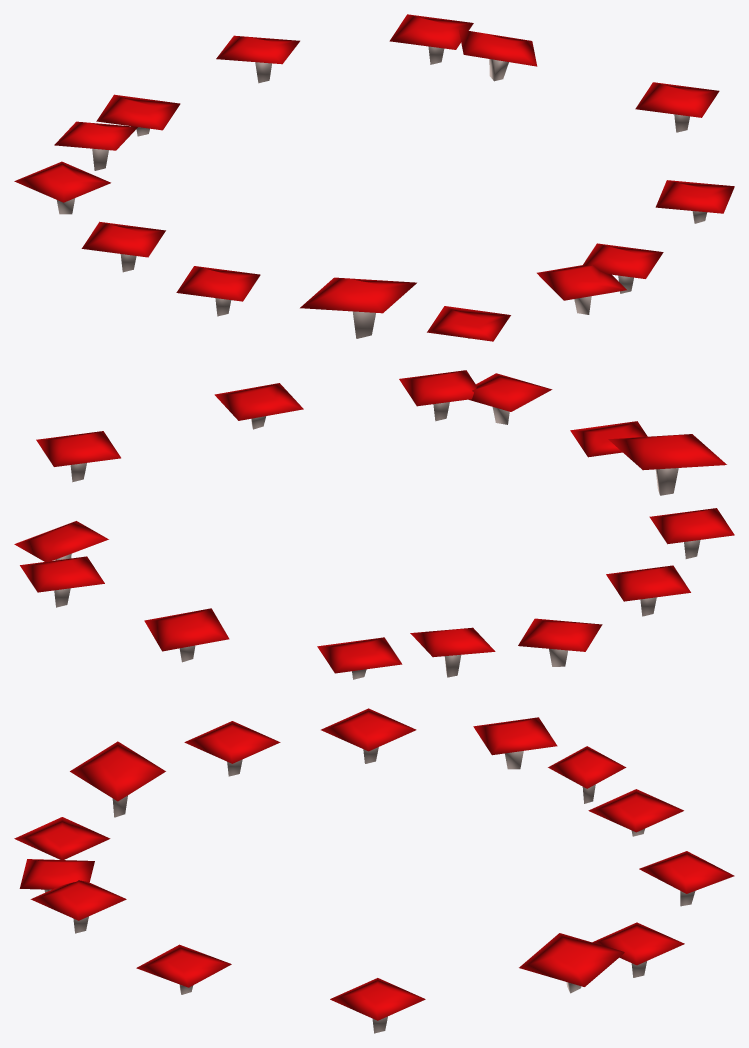
File: FairyRing.glb
3 renders of one model, top to bottom at view 1: azimuth 30°, elevation 25°; view 2: azimuth 150°, elevation 25°; view 3: azimuth 270°, elevation 25°, orthographic. The views are drawn at different scales.
Visible parts, largest first — view 1: Mushroom.006, Mushroom.004, Mushroom.002, Mushroom, Mushroom.008, Mushroom.013, Mushroom.001, Mushroom.011, Mushroom.012, Mushroom.003, Mushroom.007, Mushroom.009 (+2 smaller); view 2: Mushroom.006, Mushroom.010, Mushroom.013, Mushroom, Mushroom.004, Mushroom.008, Mushroom.011, Mushroom.007, Mushroom.012, Mushroom.003, Mushroom.002, Mushroom.001 (+2 smaller); view 3: Mushroom.001, Mushroom.006, Mushroom.004, Mushroom, Mushroom.013, Mushroom.008, Mushroom.010, Mushroom.007, Mushroom.012, Mushroom.003, Mushroom.009, Mushroom.011 (+2 smaller).
Boxes of the visible parts, bbox=[...] form: Mushroom.006: bbox=[300, 277, 416, 338]; Mushroom.004: bbox=[14, 161, 110, 214]; Mushroom.002: bbox=[537, 265, 626, 314]; Mushroom: bbox=[81, 221, 165, 272]; Mushroom.008: bbox=[635, 82, 719, 132]; Mushroom.013: bbox=[176, 266, 260, 316]; Mushroom.001: bbox=[459, 29, 537, 81]; Mushroom.011: bbox=[389, 14, 473, 64]; Mushroom.012: bbox=[655, 180, 734, 223]; Mushroom.003: bbox=[96, 94, 180, 136]; Mushroom.007: bbox=[583, 243, 663, 293]; Mushroom.009: bbox=[427, 306, 510, 341]; Mushroom.006: bbox=[608, 434, 726, 495]; Mushroom.010: bbox=[144, 608, 229, 662]; Mushroom.013: bbox=[649, 508, 734, 558]; Mushroom: bbox=[606, 565, 690, 616]; Mushroom.004: bbox=[518, 618, 602, 666]; Mushroom.008: bbox=[36, 431, 120, 482]; Mushroom.011: bbox=[20, 556, 104, 607]; Mushroom.007: bbox=[399, 370, 476, 421]; Mushroom.012: bbox=[214, 383, 303, 429]; Mushroom.003: bbox=[317, 637, 402, 679]; Mushroom.002: bbox=[469, 373, 552, 424]; Mushroom.001: bbox=[14, 521, 108, 562]; Mushroom.001: bbox=[519, 933, 624, 993]; Mushroom.006: bbox=[70, 741, 165, 817]; Mushroom.004: bbox=[473, 717, 557, 769]; Mushroom: bbox=[321, 708, 416, 763]; Mushroom.013: bbox=[184, 721, 280, 776]; Mushroom.008: bbox=[330, 978, 425, 1033]; Mushroom.010: bbox=[639, 851, 734, 906]; Mushroom.007: bbox=[30, 880, 126, 933]; Mushroom.012: bbox=[136, 944, 231, 994]; Mushroom.003: bbox=[588, 789, 683, 836]; Mushroom.009: bbox=[14, 817, 110, 859]; Mushroom.011: bbox=[592, 922, 684, 977].
Size of the model in its own units: 2.31 by 0.1808 by 2.27.
